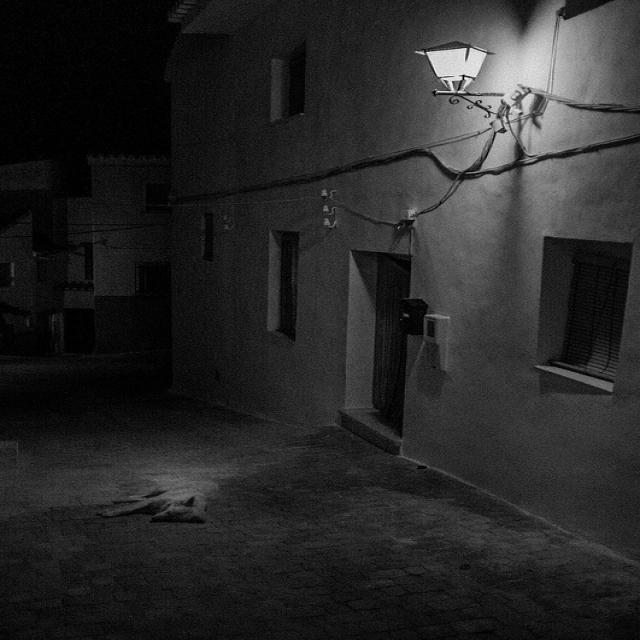dog: (117, 446, 218, 541)
